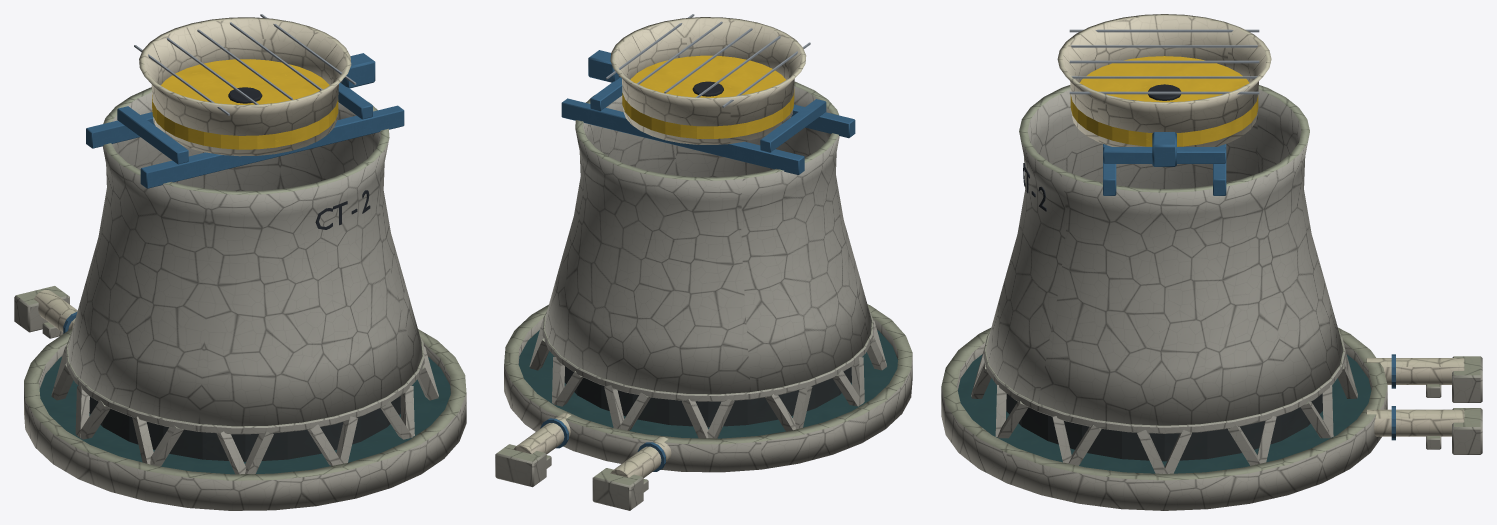
Rendered from cooling_tower_small.glb.
3 views of the same model, side by side, from view 1: azimuth 30°, elevation 25°; view 2: azimuth 150°, elevation 25°; view 3: azimuth 270°, elevation 25° (orthographic). The views are drawn at different scales.
Parts seen in each view (by area): view 1: cooling_tower_small; view 2: cooling_tower_small; view 3: cooling_tower_small.
Boxes of the visible parts, x1=… form: cooling_tower_small: x1=14, y1=14, x2=466, y2=510; cooling_tower_small: x1=495, y1=14, x2=912, y2=510; cooling_tower_small: x1=941, y1=14, x2=1482, y2=510.
Size of the model in its own units: 7.3 by 6.5 by 8.85.
14 materials, 14 textured.
